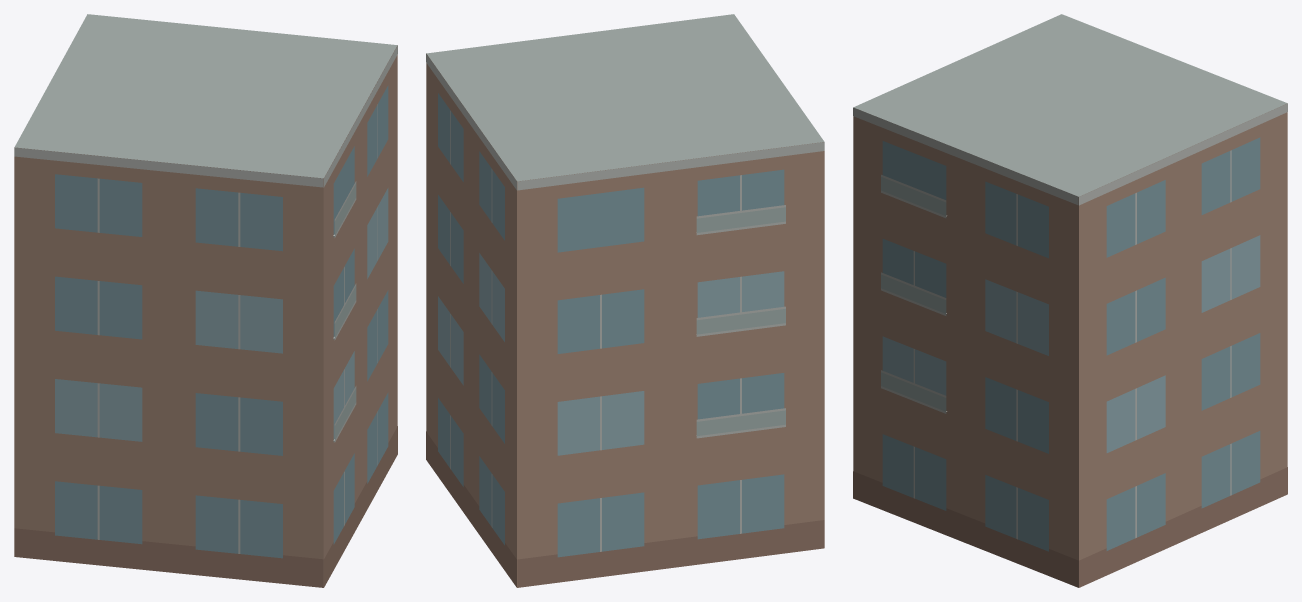
File: survey-upis-32639490.glb
3 views of the same model, side by side, from view 1: azimuth 30°, elevation 25°; view 2: azimuth 150°, elevation 25°; view 3: azimuth 270°, elevation 25° (orthographic). The views are drawn at different scales.
Parts seen in each view (by area): view 1: survey-upis-32639490.tmp; view 2: survey-upis-32639490.tmp; view 3: survey-upis-32639490.tmp.
Boxes of the visible parts, x1,y1,x2,y2 form: survey-upis-32639490.tmp: (14,14,397,587); survey-upis-32639490.tmp: (426,14,824,587); survey-upis-32639490.tmp: (853,14,1287,587).
Size of the model in its own units: 10.94 by 10.9 by 10.99.
